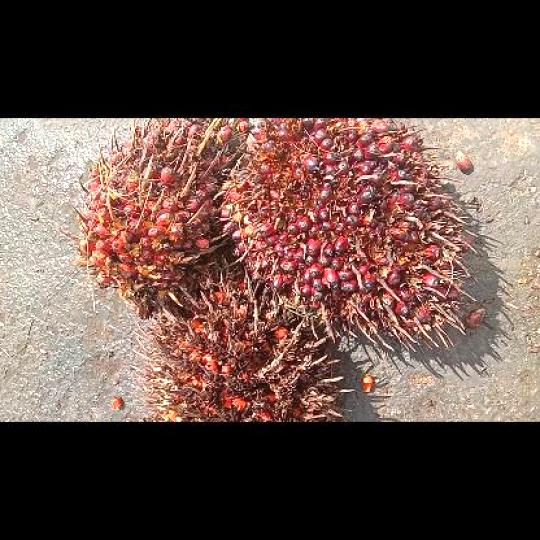masak: (220, 118, 476, 352), (59, 118, 247, 318)
terlalu masak: (130, 271, 353, 420)
